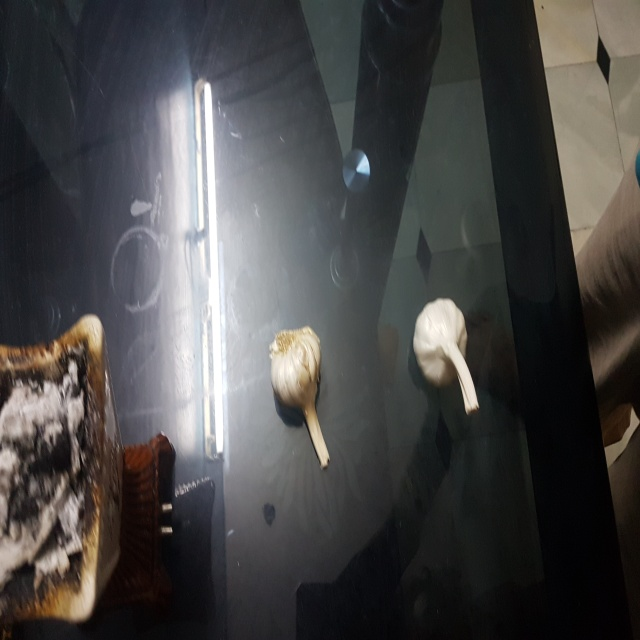garlic: (266, 318, 345, 473), (405, 290, 482, 423)
